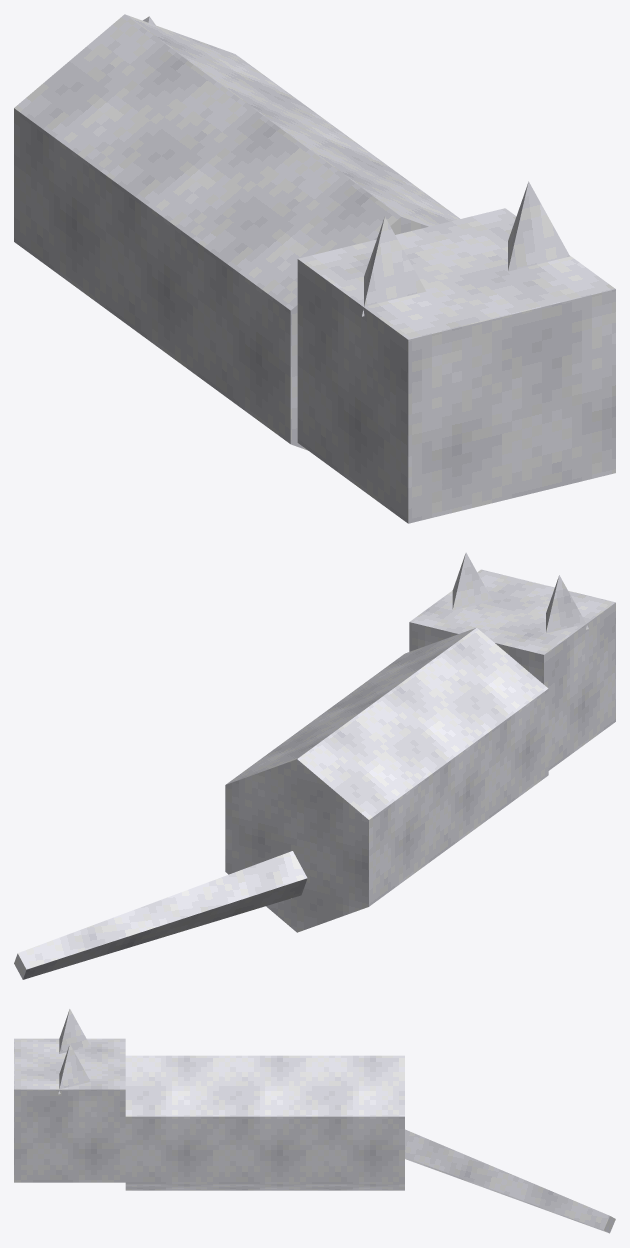
The model's file is gato_tumbado.obj.
The picture shows the model from 3 angles, top to bottom: view 1: azimuth 30°, elevation 25°; view 2: azimuth 150°, elevation 25°; view 3: azimuth 270°, elevation 25°; orthographic projection. The views are drawn at different scales.
Parts seen in each view (by area): view 1: gato_tumbado; view 2: gato_tumbado; view 3: gato_tumbado.
Boxes of the visible parts, x1,y1,x2,y2 form: gato_tumbado: [14, 14, 615, 523]; gato_tumbado: [14, 552, 615, 979]; gato_tumbado: [14, 1009, 615, 1233].
Size of the model in its own units: 0.2191 by 0.195 by 0.6465.
1 material, 1 textured.
